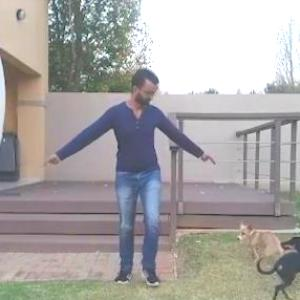land: (31, 72, 210, 288)
